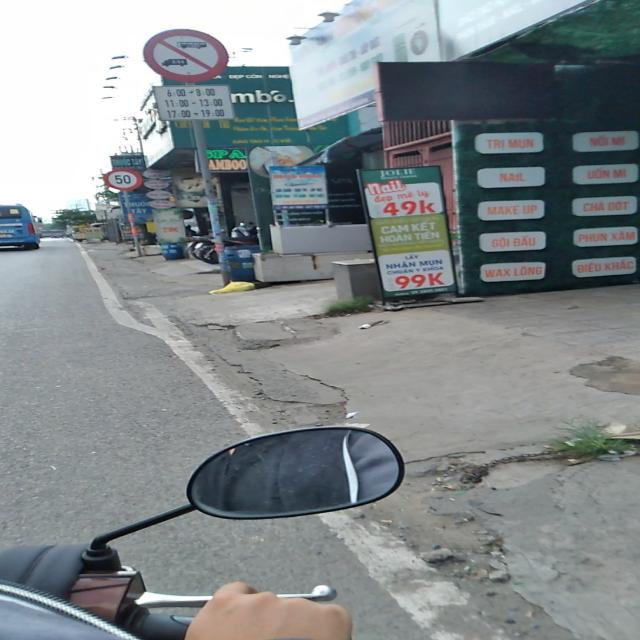Cam con lai: (141, 25, 230, 85)
Toc do toi da: (103, 168, 143, 191)
